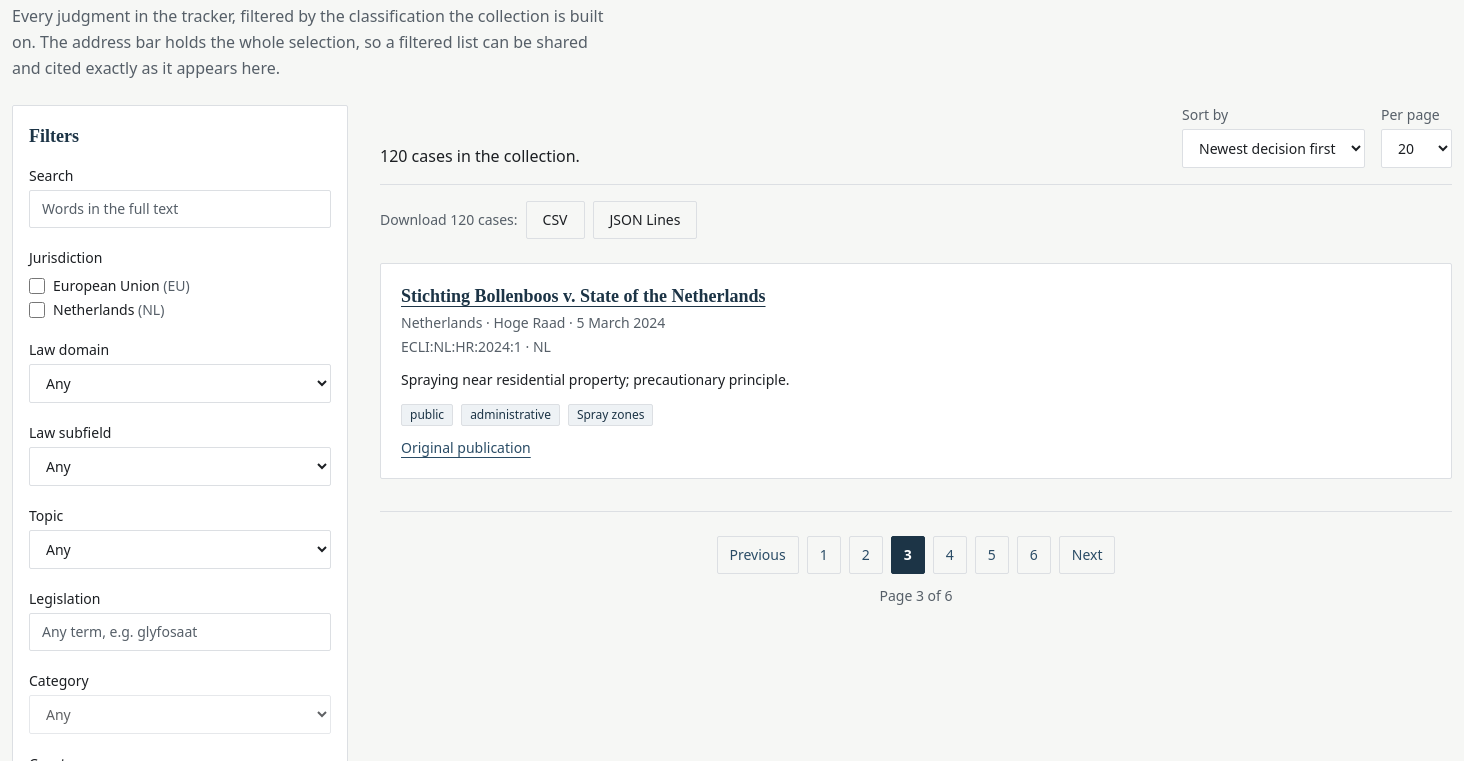
AllCases › returns to the first page when the selection changes
Expected: the checkbox labelled "Netherlands (NL)" is shown, left=29, top=302, right=45, bottom=318
Select "Oldest decision first" in the dropdown labelled "Sort by" at (1274, 148), box left=1182, top=129, right=1365, bottom=168
(page scrolled)
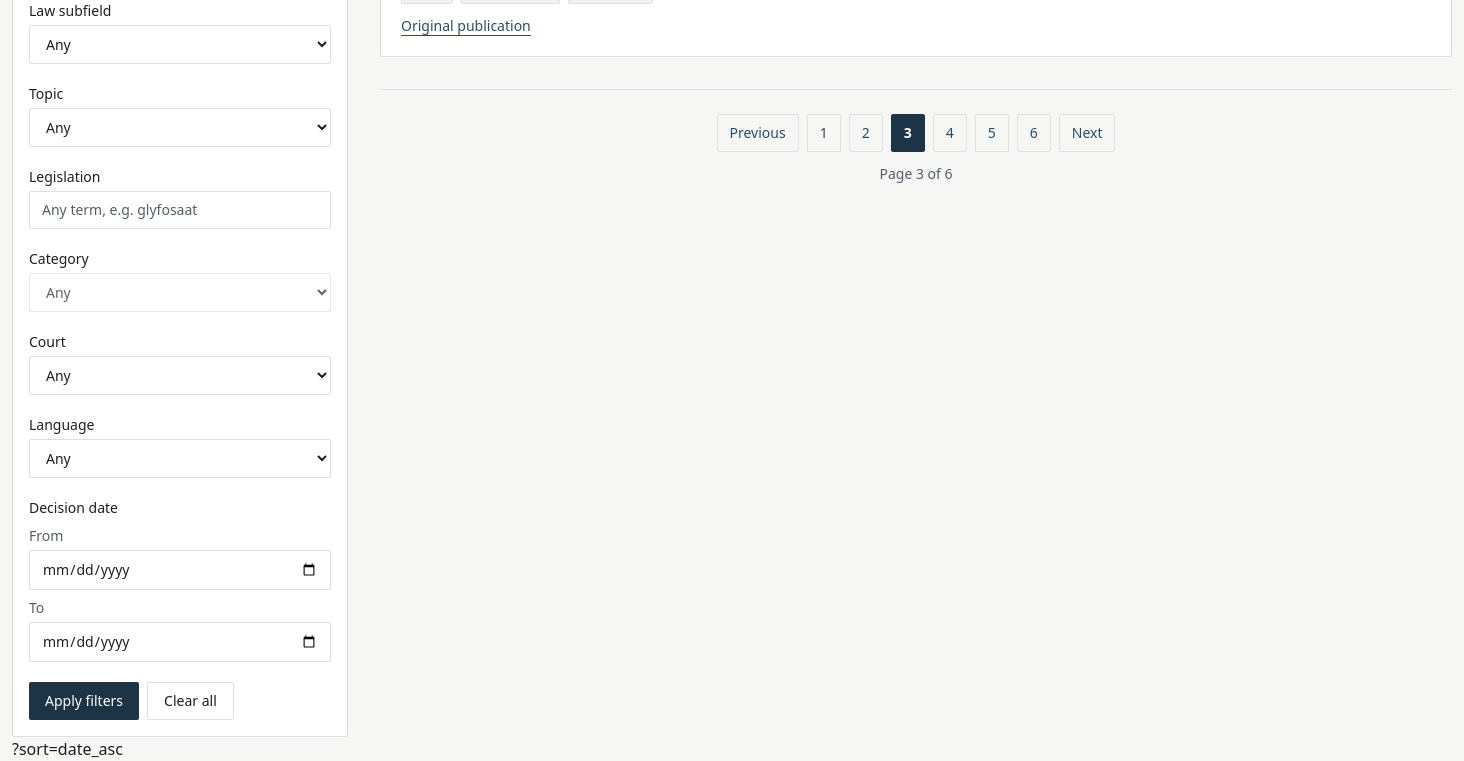
Now the text with test id "location" reads "?sort=date_asc", box left=12, top=738, right=123, bottom=760
